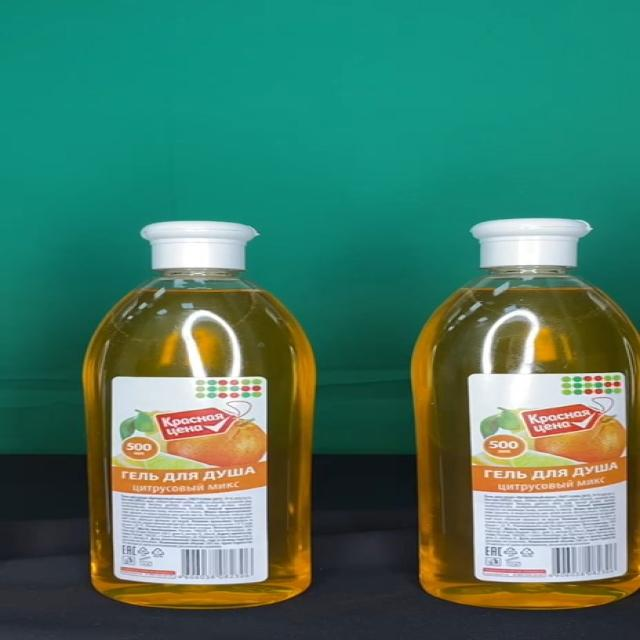Bottle: (80, 221, 314, 608), (409, 219, 640, 609)
Cap: (470, 219, 592, 268), (140, 222, 260, 270)
